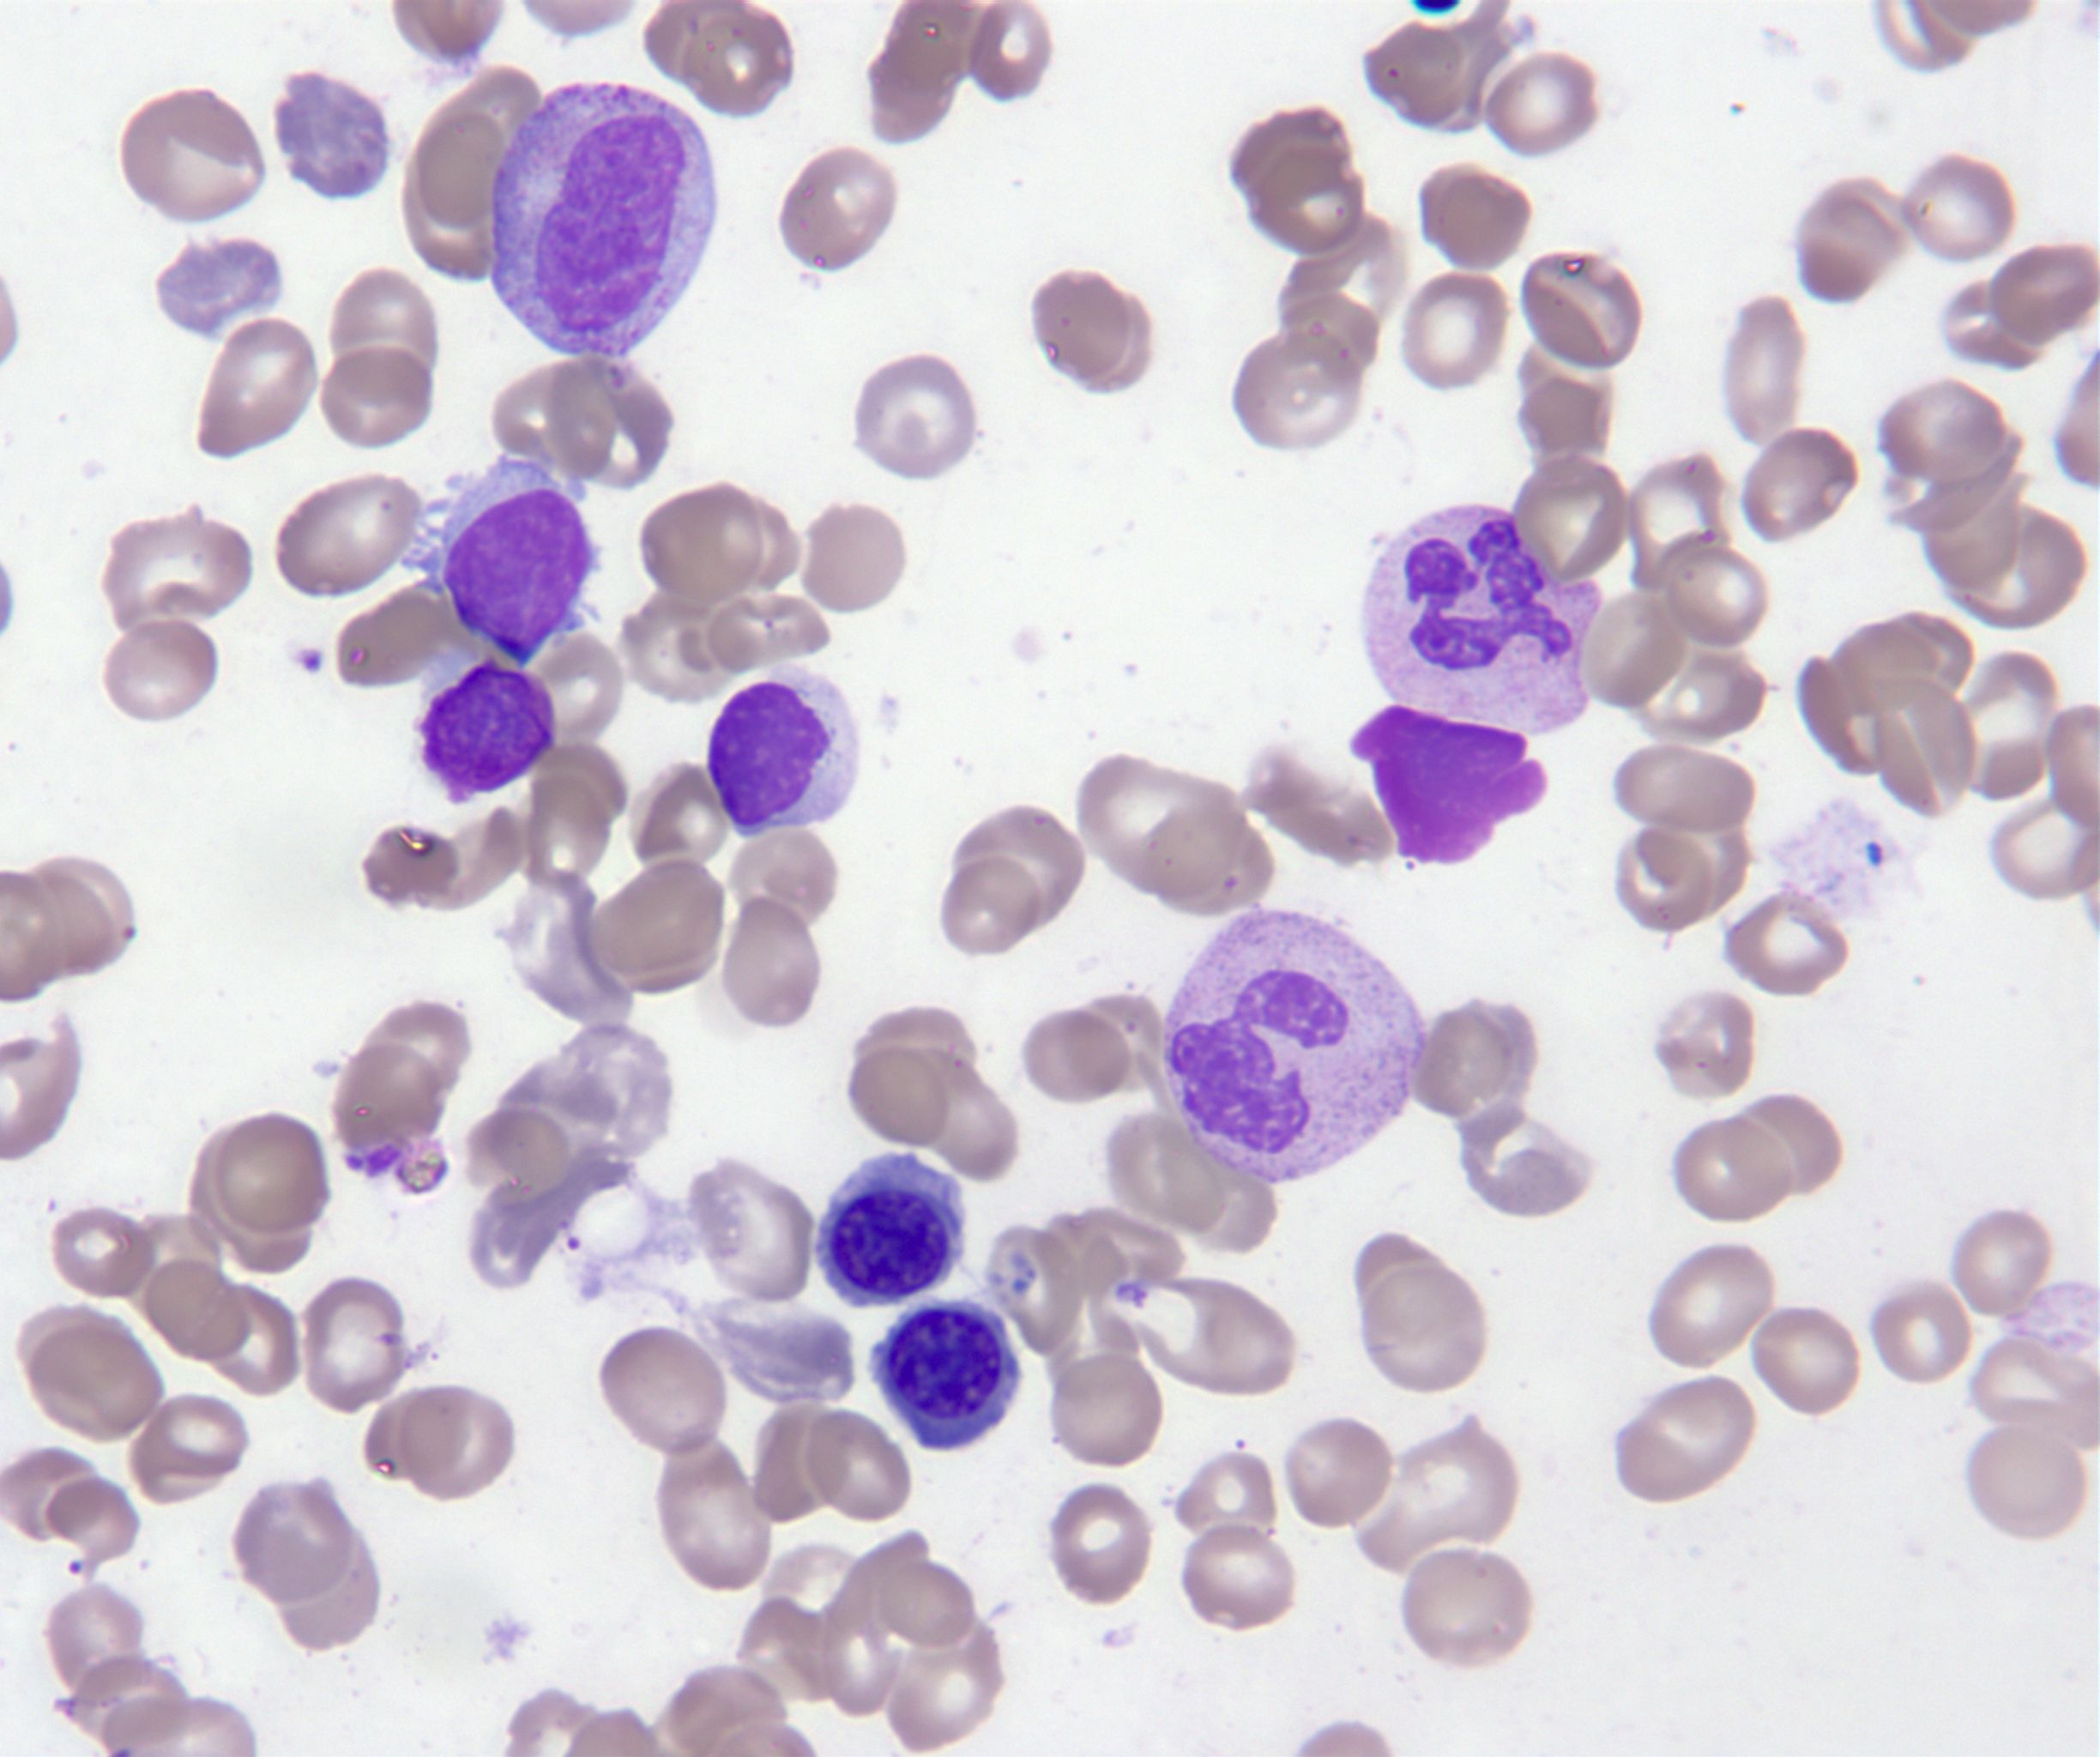23: (816, 1153, 966, 1312), (870, 1296, 1020, 1453)
31: (405, 459, 598, 665)
32: (708, 665, 860, 839)
42: (490, 85, 717, 361)
6: (1163, 913, 1425, 1181), (1364, 504, 1605, 738)
x: (1352, 707, 1544, 865), (419, 660, 558, 808)
